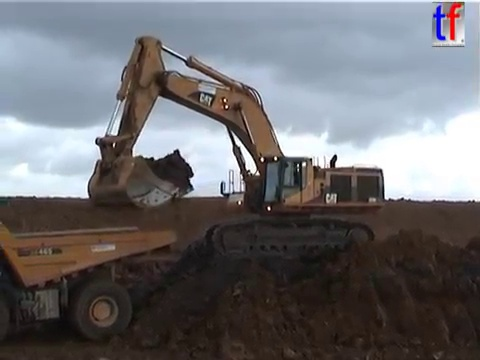excavator: (84, 33, 389, 263)
truck: (1, 218, 179, 345)
